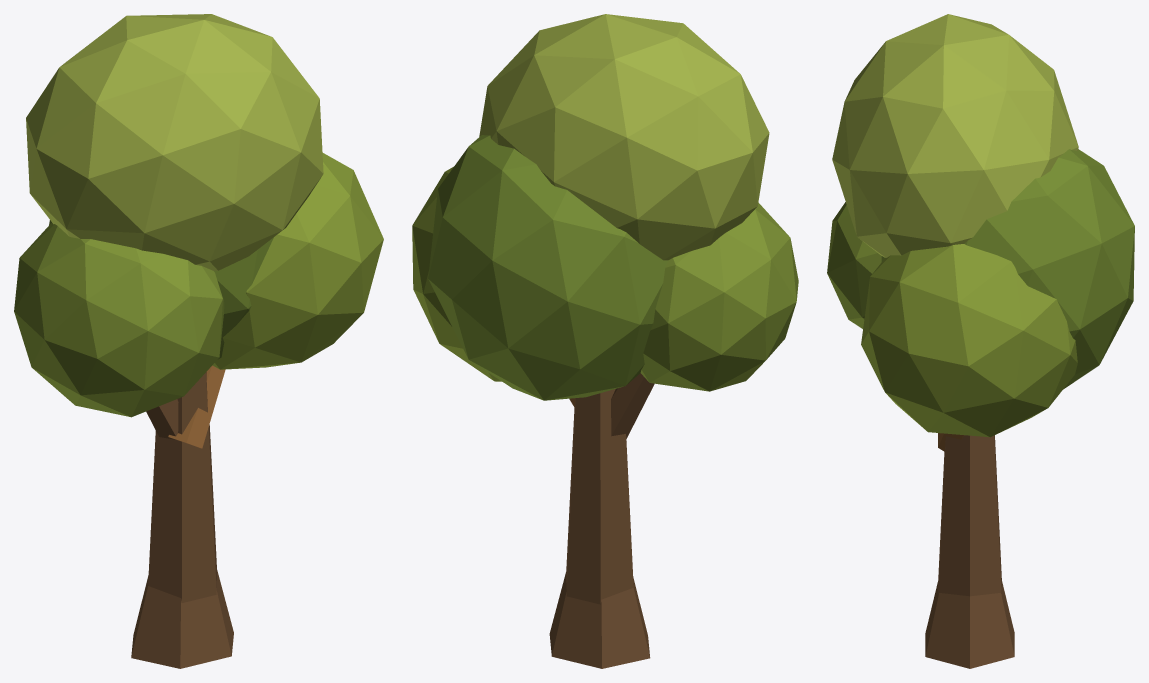
File: tree-canopy-9.gltf
3 renders of one model, left to right at view 1: azimuth 30°, elevation 25°; view 2: azimuth 150°, elevation 25°; view 3: azimuth 270°, elevation 25°, orthographic. The views are drawn at different scales.
Visible parts, largest first — view 1: tree-canopy-9; view 2: tree-canopy-9; view 3: tree-canopy-9.
Part boxes in pixels (left/top/right/bottom): tree-canopy-9: left=14, top=14, right=383, bottom=668; tree-canopy-9: left=412, top=14, right=798, bottom=668; tree-canopy-9: left=827, top=14, right=1134, bottom=668.
Bounding box in the file's own units: 1.11 × 1.9 × 0.8769.
